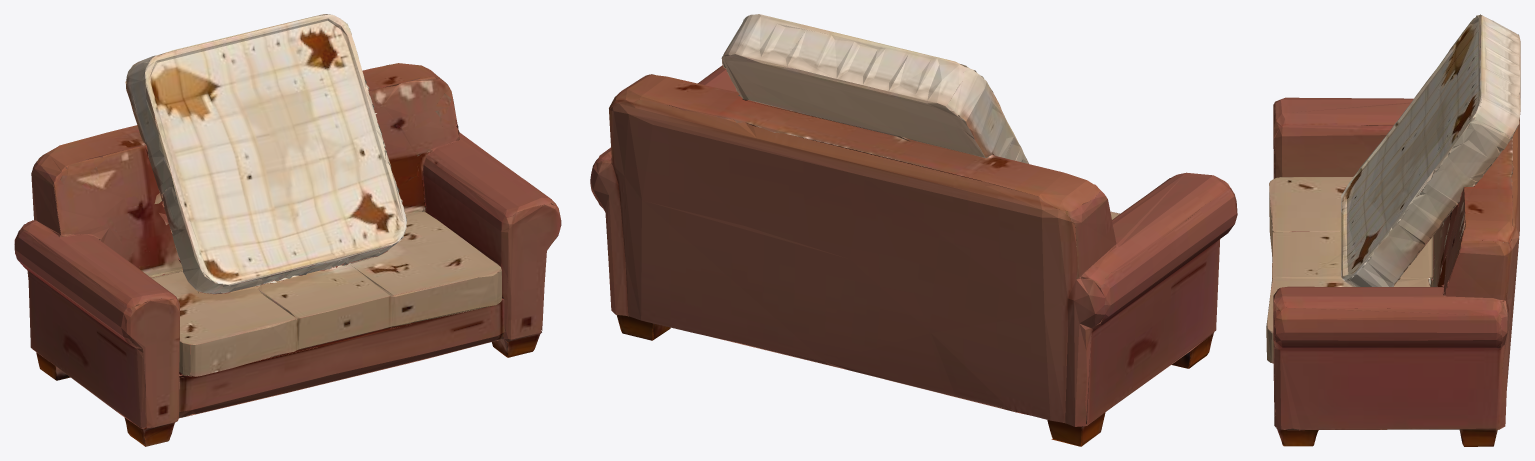
The model's file is sofa_junk.glb.
The picture shows the model from 3 angles, left to right: view 1: azimuth 30°, elevation 25°; view 2: azimuth 150°, elevation 25°; view 3: azimuth 270°, elevation 25°; orthographic projection. The views are drawn at different scales.
Parts seen in each view (by area): view 1: obj.obj; view 2: obj.obj; view 3: obj.obj.
Part boxes in pixels (x1,y1,x2,y2): obj.obj: (14,14,561,446); obj.obj: (590,14,1237,446); obj.obj: (1266,14,1520,446).
Size of the model in its own units: 1.57 by 1 by 0.7815.
Materials: 1 (1 with a texture image).
